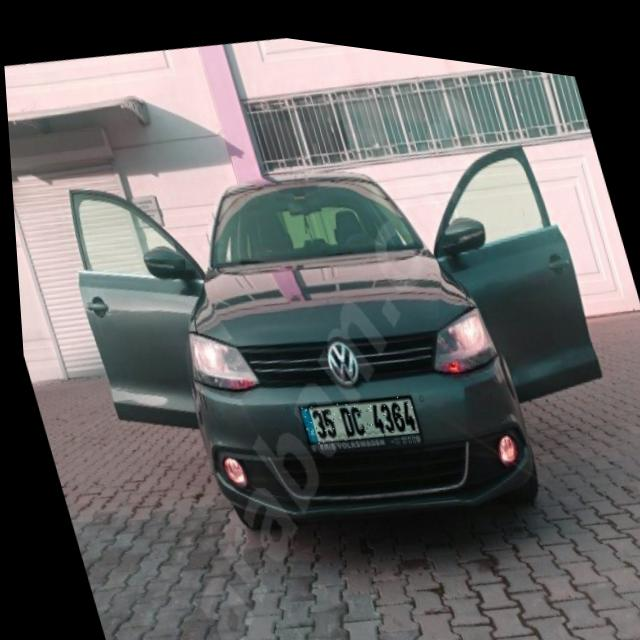license_plate: (291, 373, 417, 449)
